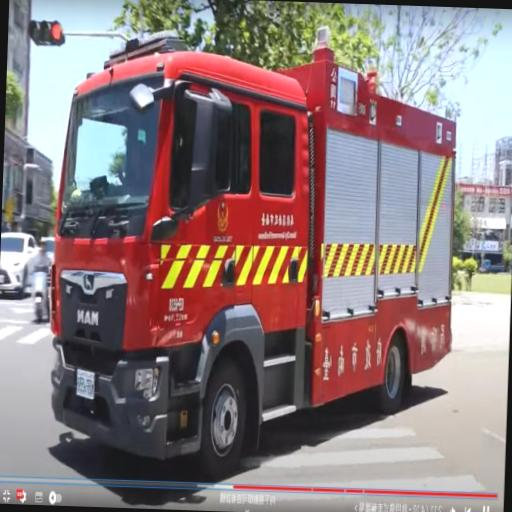fire truck: (50, 27, 456, 477)
